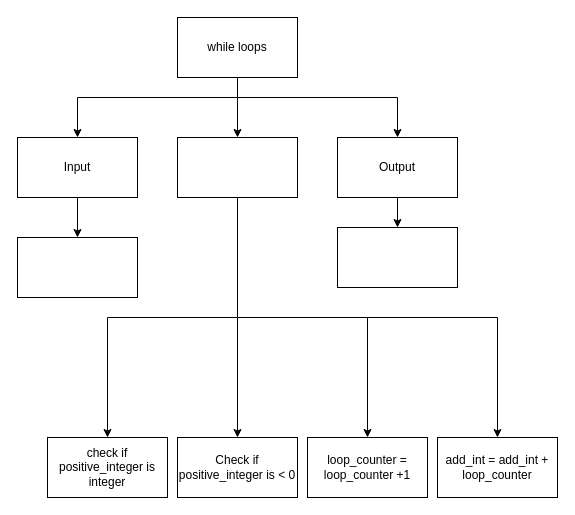
Image size: 575x515. Some labels were removed from this diagram. The shapes that lost their labels are listed below. From the top down, each one's centre as x and y in pixels, then its label:
[237,167]: Process
[77,267]: get positive_integer
[397,257]: show what add_int is when loop_counter < positive_integer
